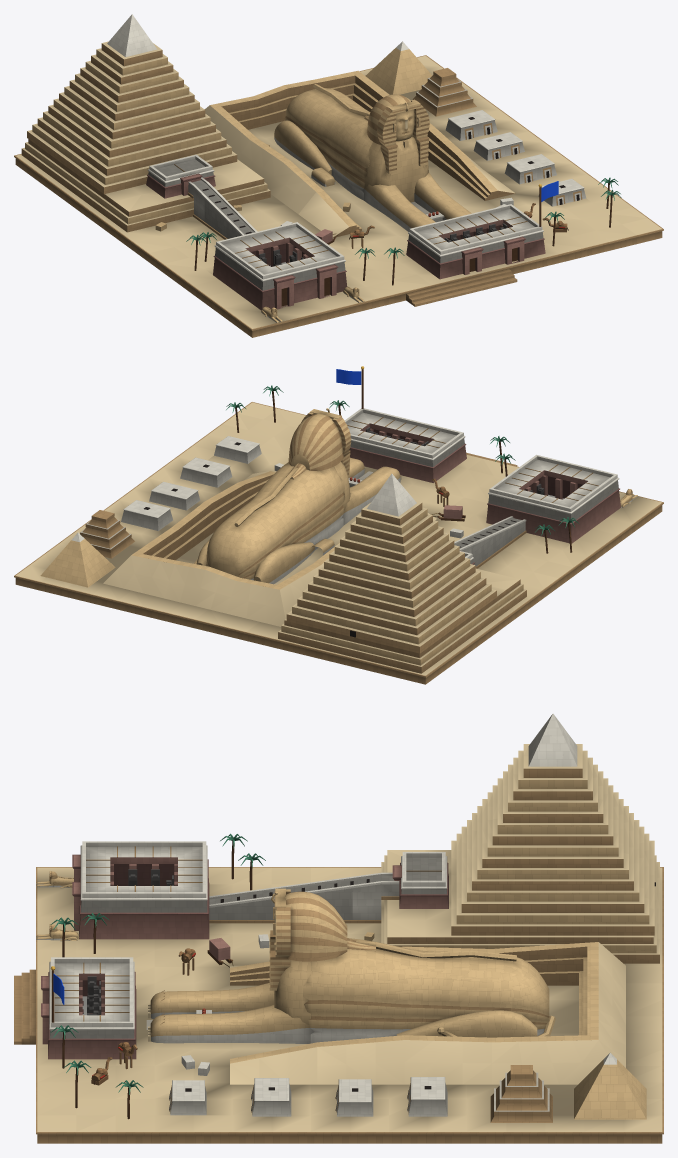
File: lm_sfenks.glb
3 views of the same model, one above another, from view 1: azimuth 30°, elevation 25°; view 2: azimuth 150°, elevation 25°; view 3: azimuth 270°, elevation 25° (orthographic). The views are drawn at different scales.
Parts seen in each view (by area): view 1: lm_sfenks; view 2: lm_sfenks; view 3: lm_sfenks.
Part boxes in pixels (bbox=[...]): lm_sfenks: bbox=[14, 14, 663, 337]; lm_sfenks: bbox=[14, 366, 663, 684]; lm_sfenks: bbox=[14, 713, 663, 1143].
Bounding box in the file's own units: 2.41 × 0.9099 × 2.5.
1 material, 1 textured.
